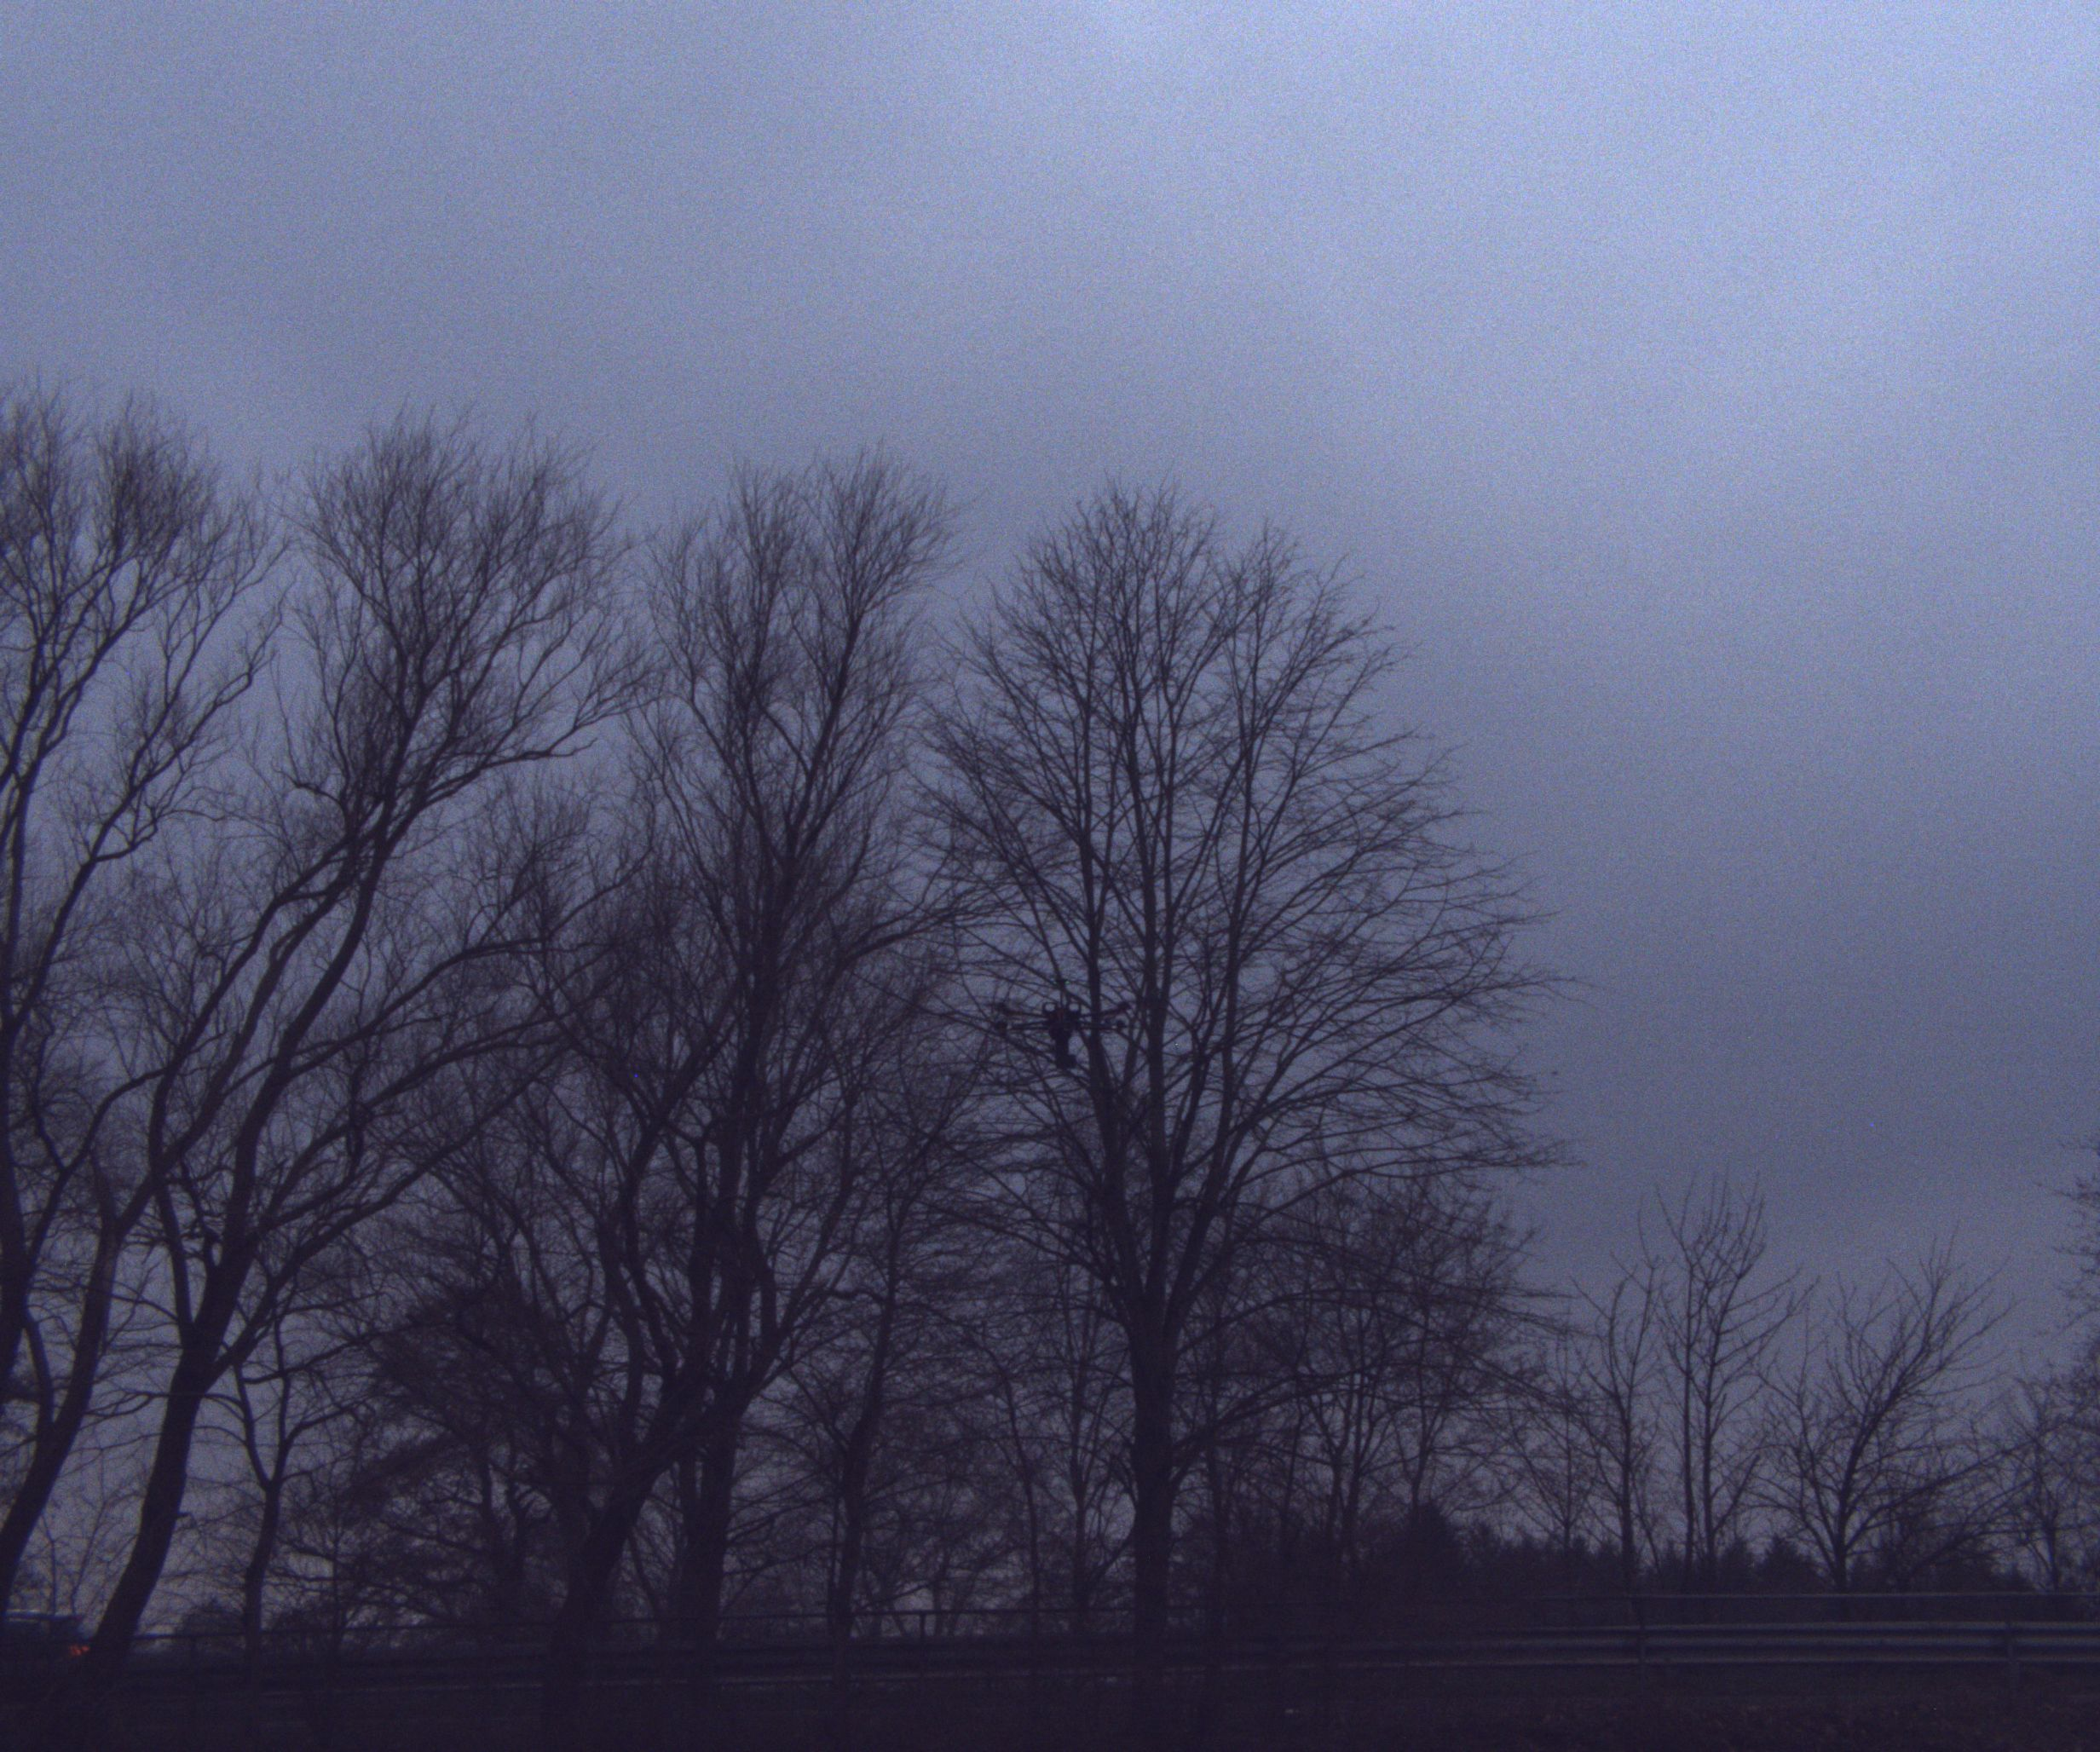Drohne: (963, 945, 1252, 1112)
